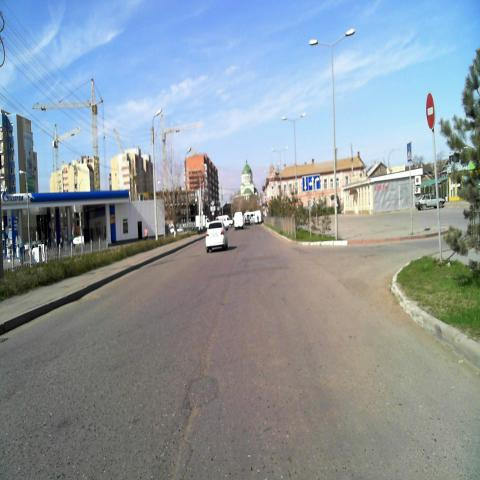5_15_7: (302, 176, 320, 192)
